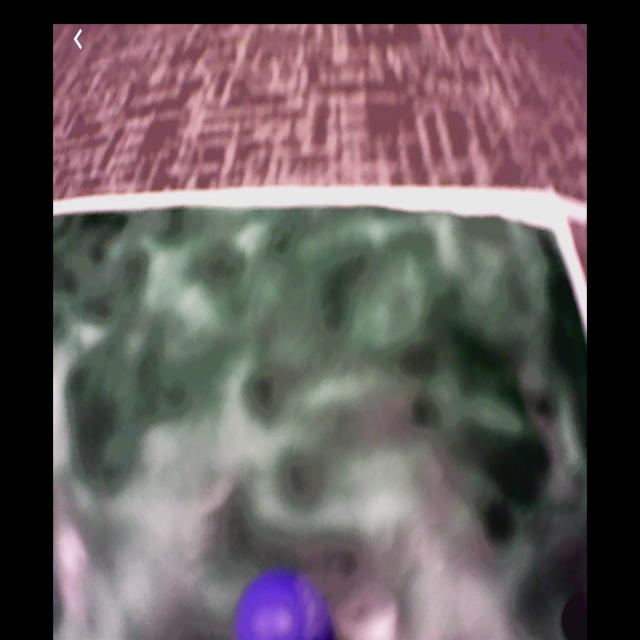ball: (234, 570, 332, 640)
